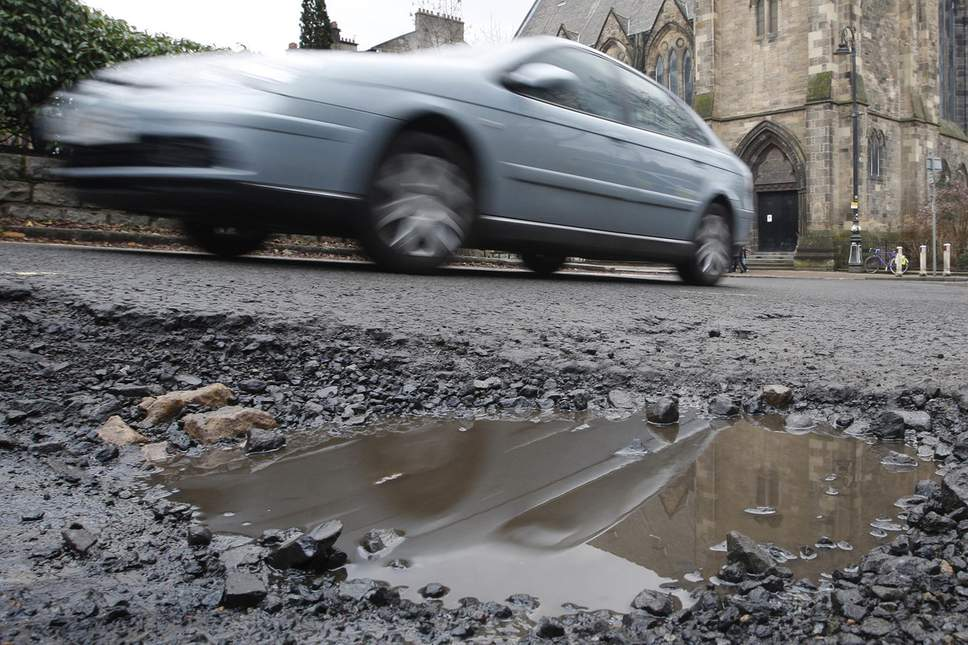pothole: (138, 323, 953, 643)
